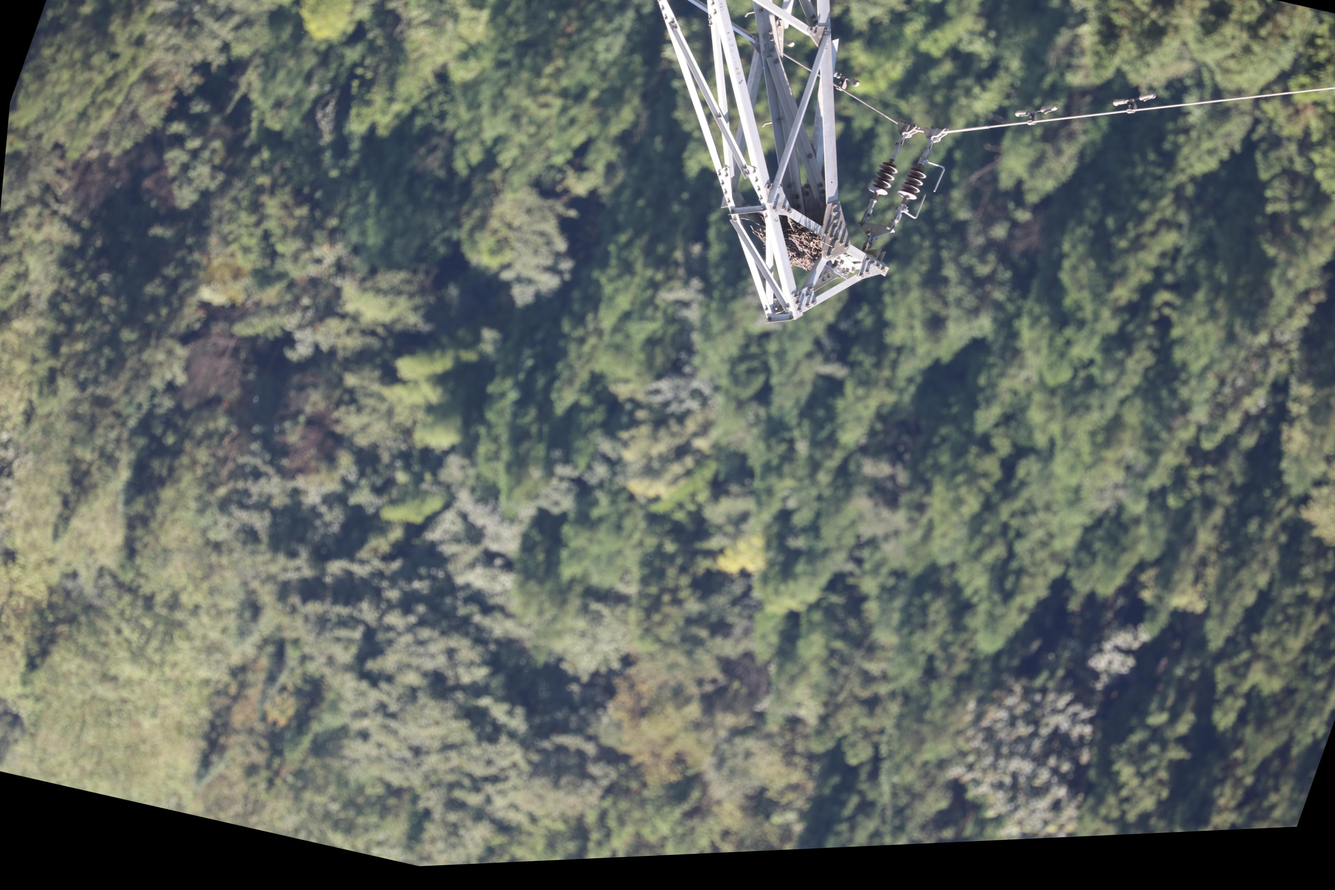damper: (1105, 76, 1163, 124), (1007, 90, 1064, 135), (824, 65, 867, 99)
